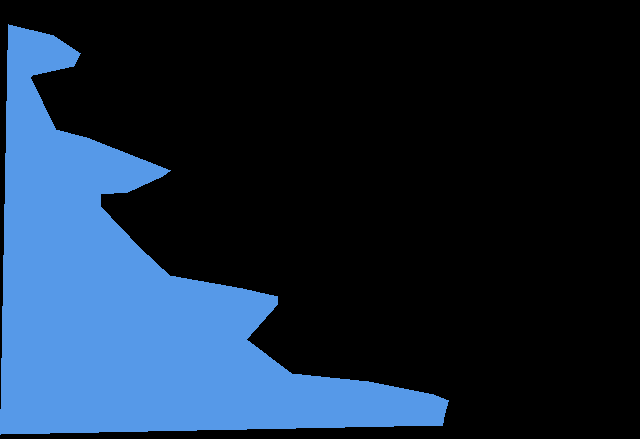Airplane: (0, 24, 448, 434)
